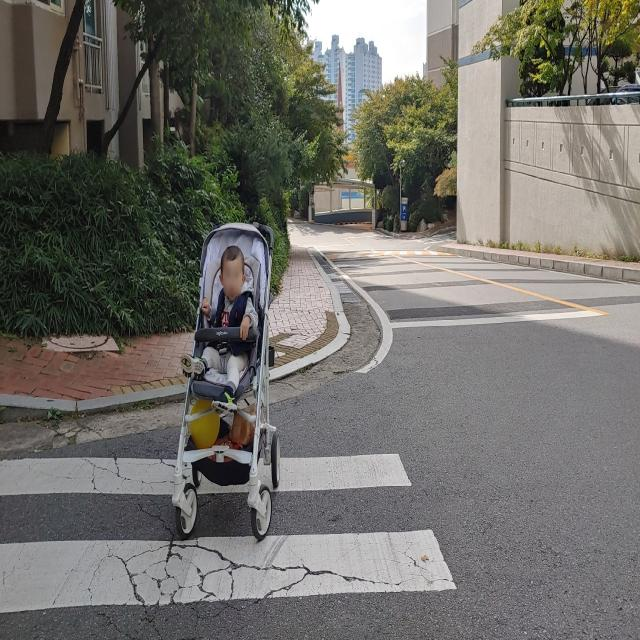횡단보도: (0, 451, 458, 614)
